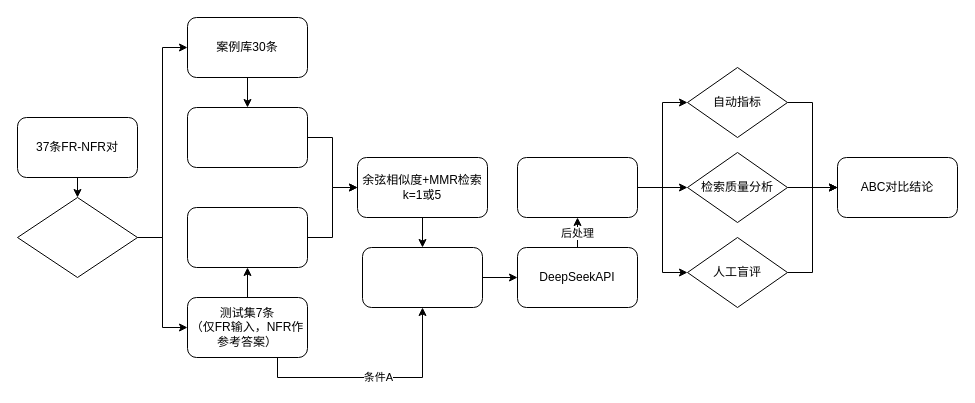
Some shapes in this 975 by 403 pixel diagram are drawn without their labels. The centre of each missing label's shape, as x and y in pixels:
"bge-small-zh-v1.5向量化" belongs at point (247, 137).
"构造五段式提示" belongs at point (422, 277).
"测试FR向量化" belongs at point (247, 237).
"结果保存： results.json" belongs at point (577, 187).
"随机划分 （seed=42）" belongs at point (77, 237).
